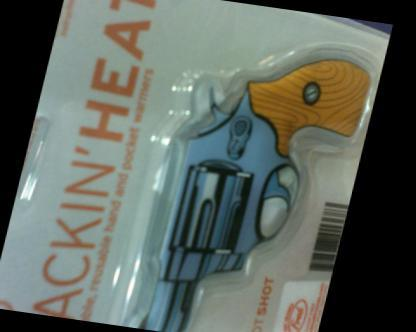pistol: (132, 37, 381, 329)
